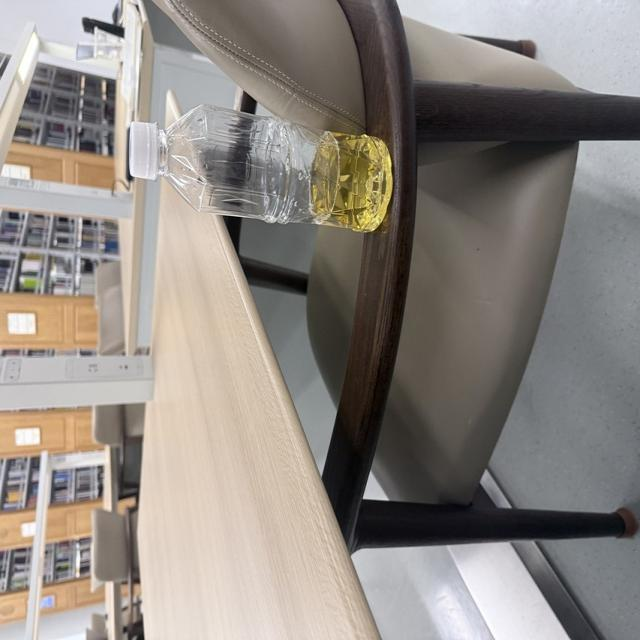low: (130, 105, 392, 231)
